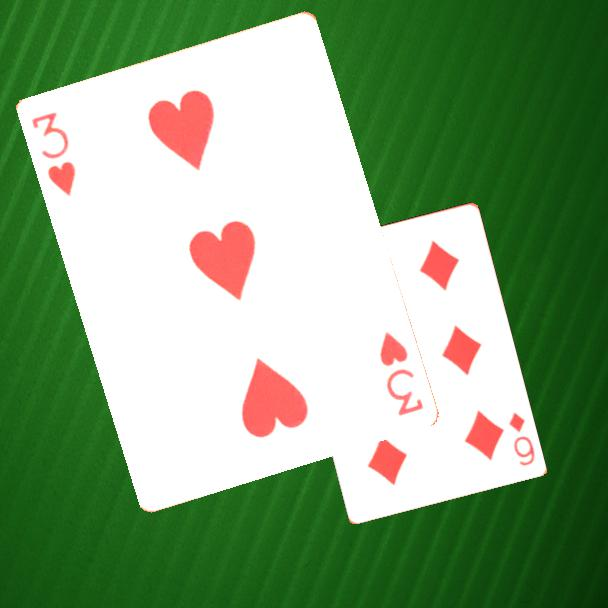d06: (505, 408, 537, 468)
h03: (375, 327, 426, 419), (27, 108, 78, 199)
